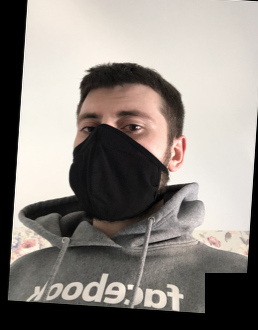with_mask: (69, 102, 162, 221)
